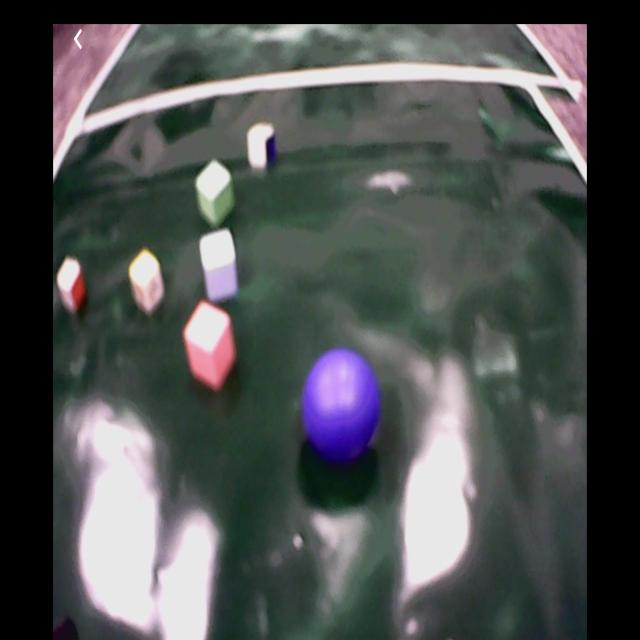ball: (304, 349, 380, 450)
